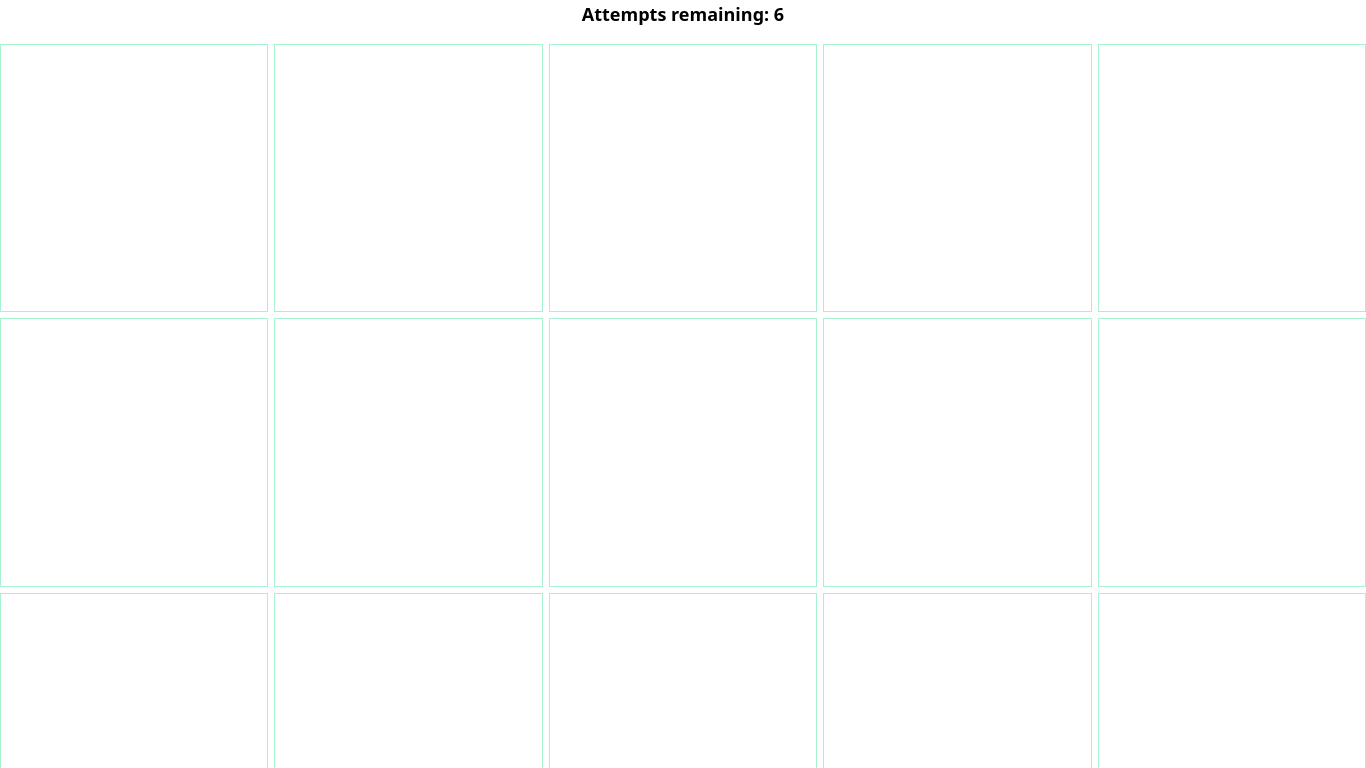
Test: GameClient play › shows a win and starts another game without reloading the page
Expected: the text "Attempts remaining: 6" is shown, [582,2,784,26]
Type keys "crane{Enter}"
(page scrolled)
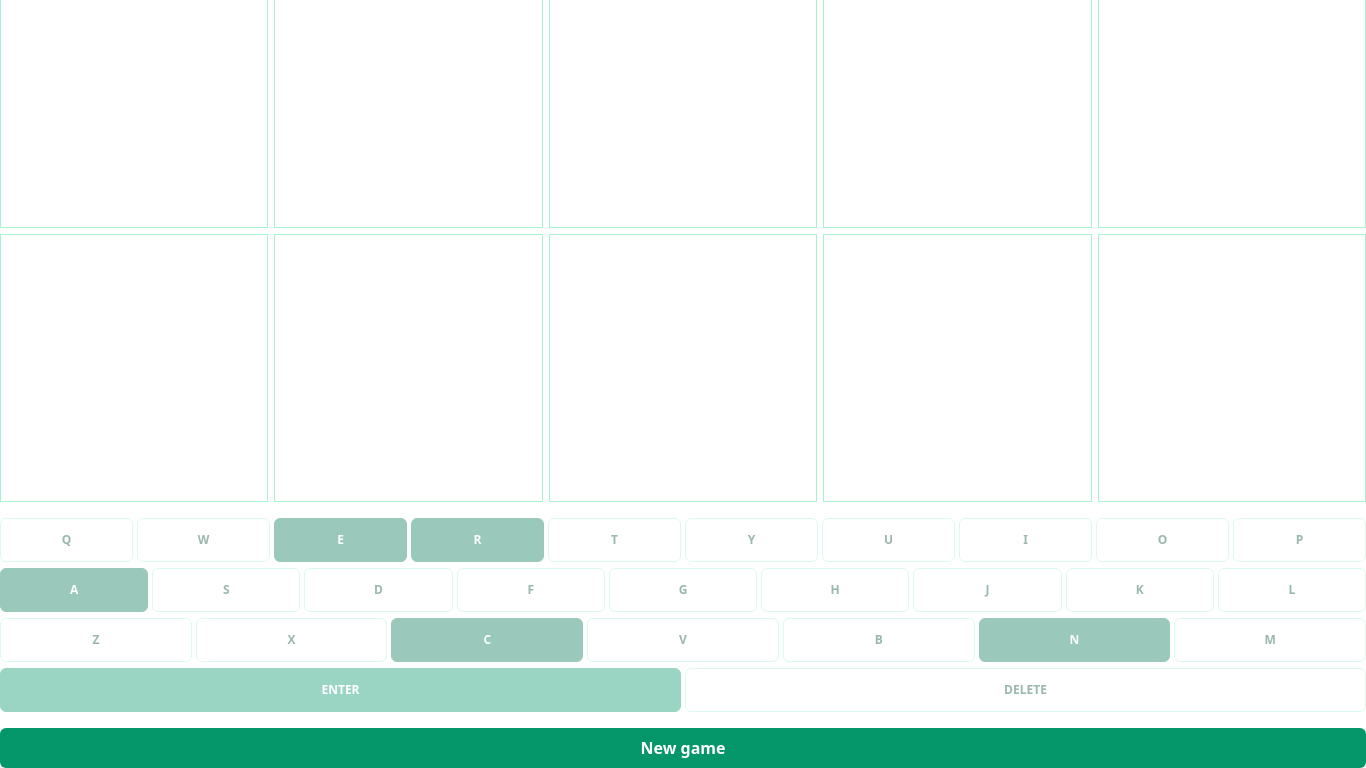
Click the button with test id "new-game". click: (683,748)
box: [0,728,1365,767]
(page scrolled)
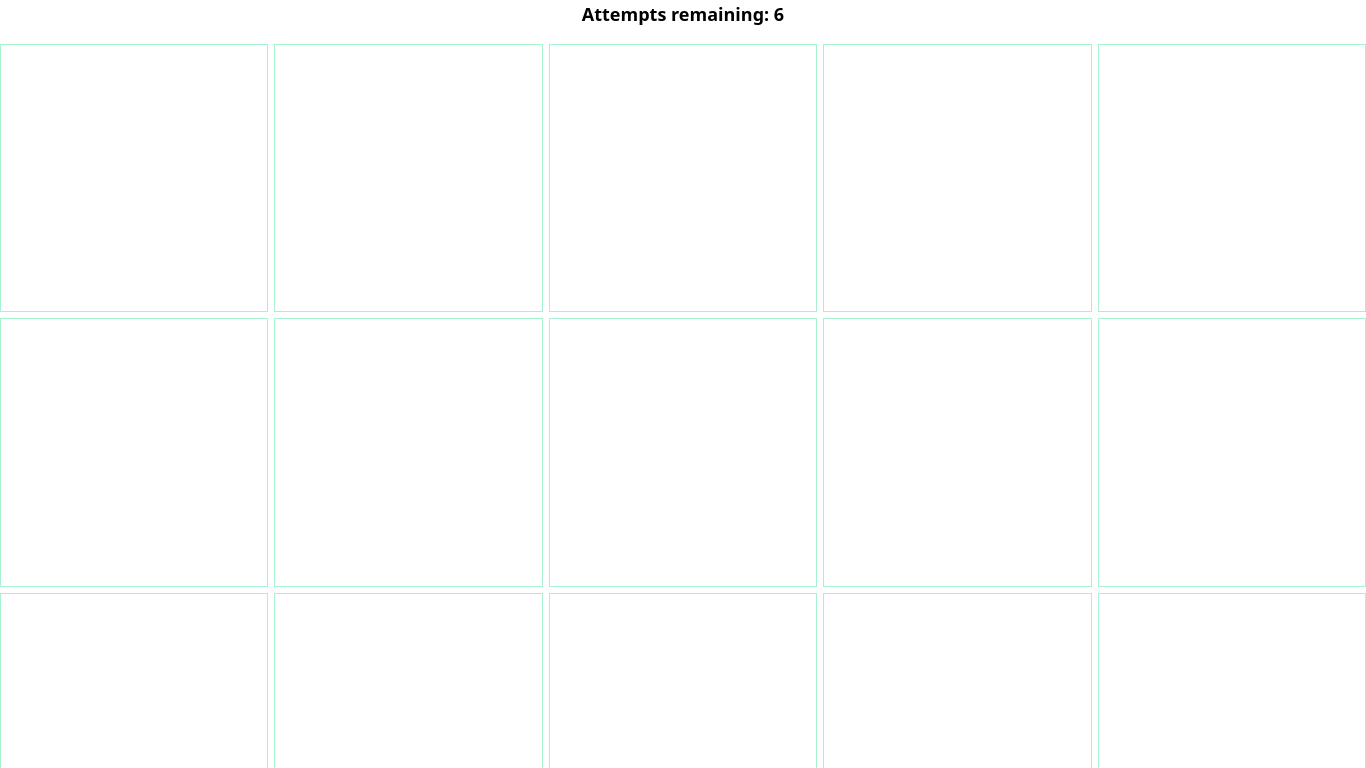
Now the text "Attempts remaining: 6" is shown, box [582,2,784,26]
Now the element with test id "tile-0-0" is empty, box [0,44,268,312]
